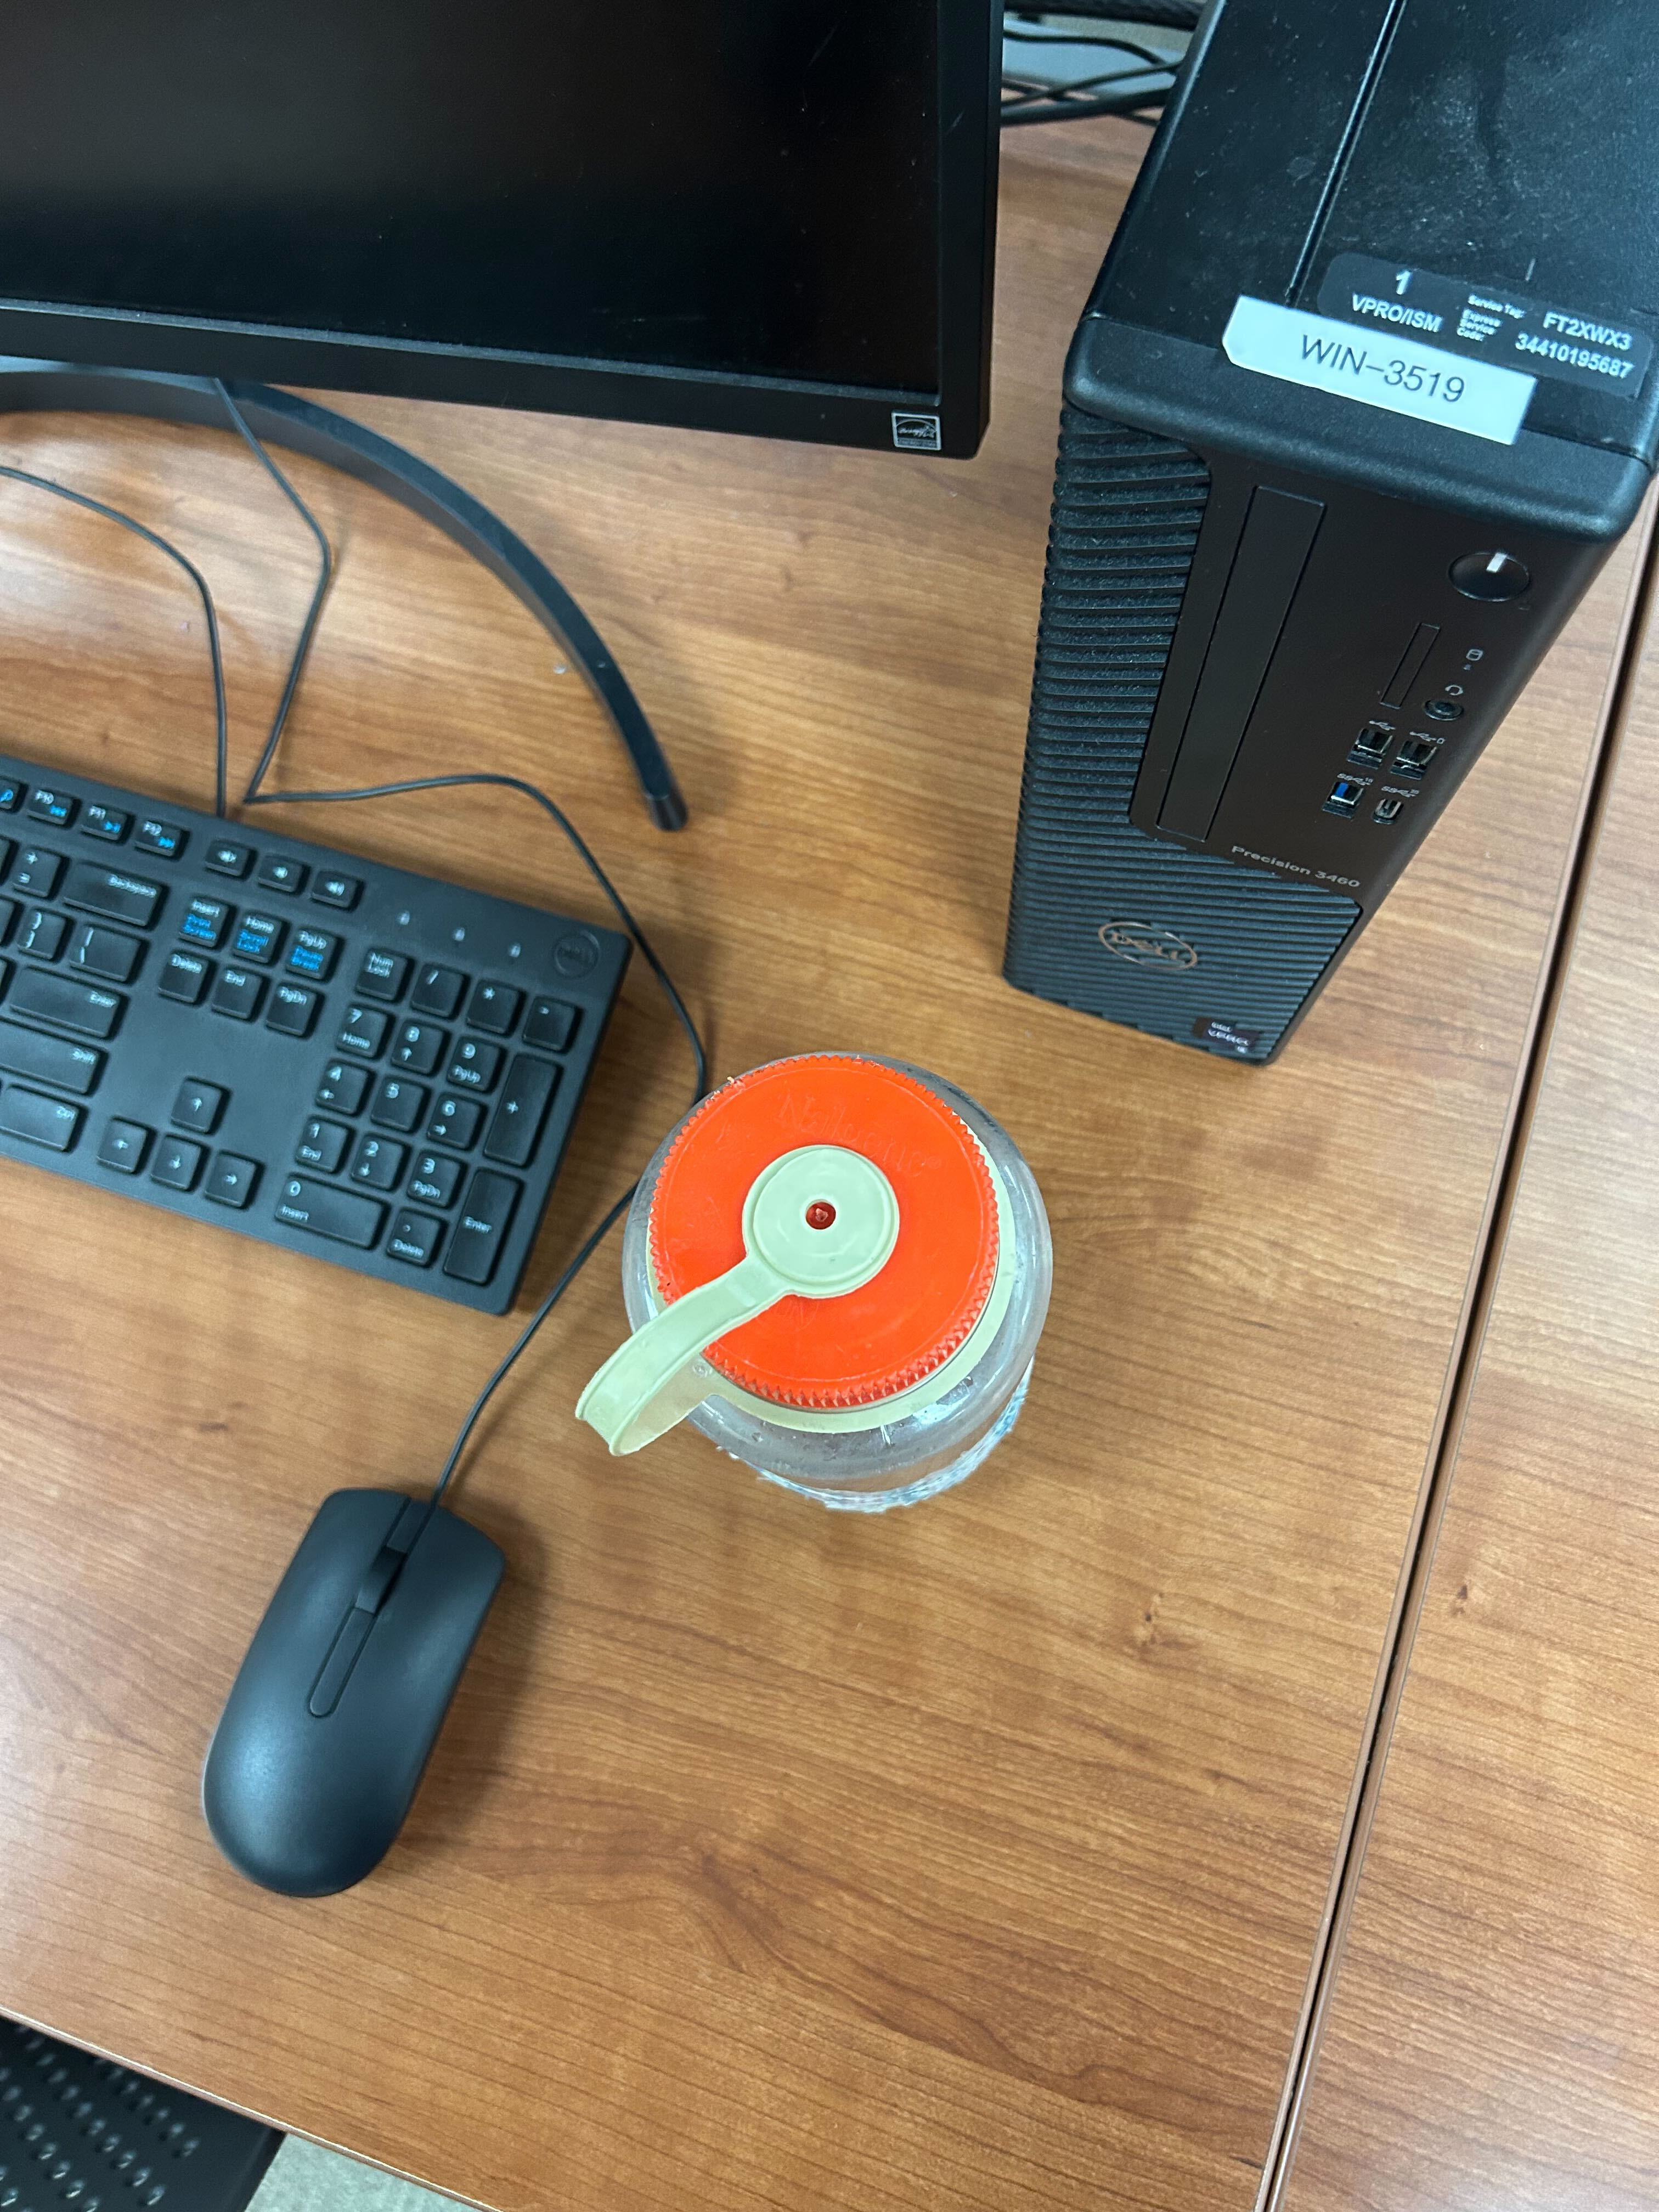bottle: (570, 1036, 1058, 1526)
